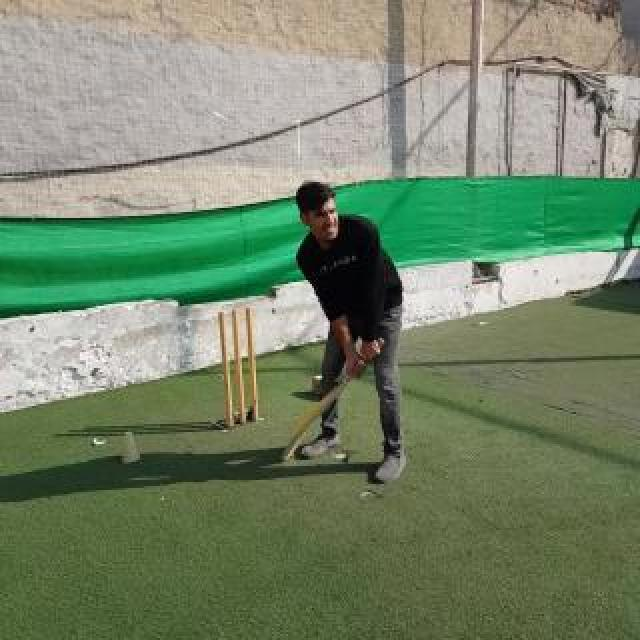bat: (280, 338, 386, 462)
